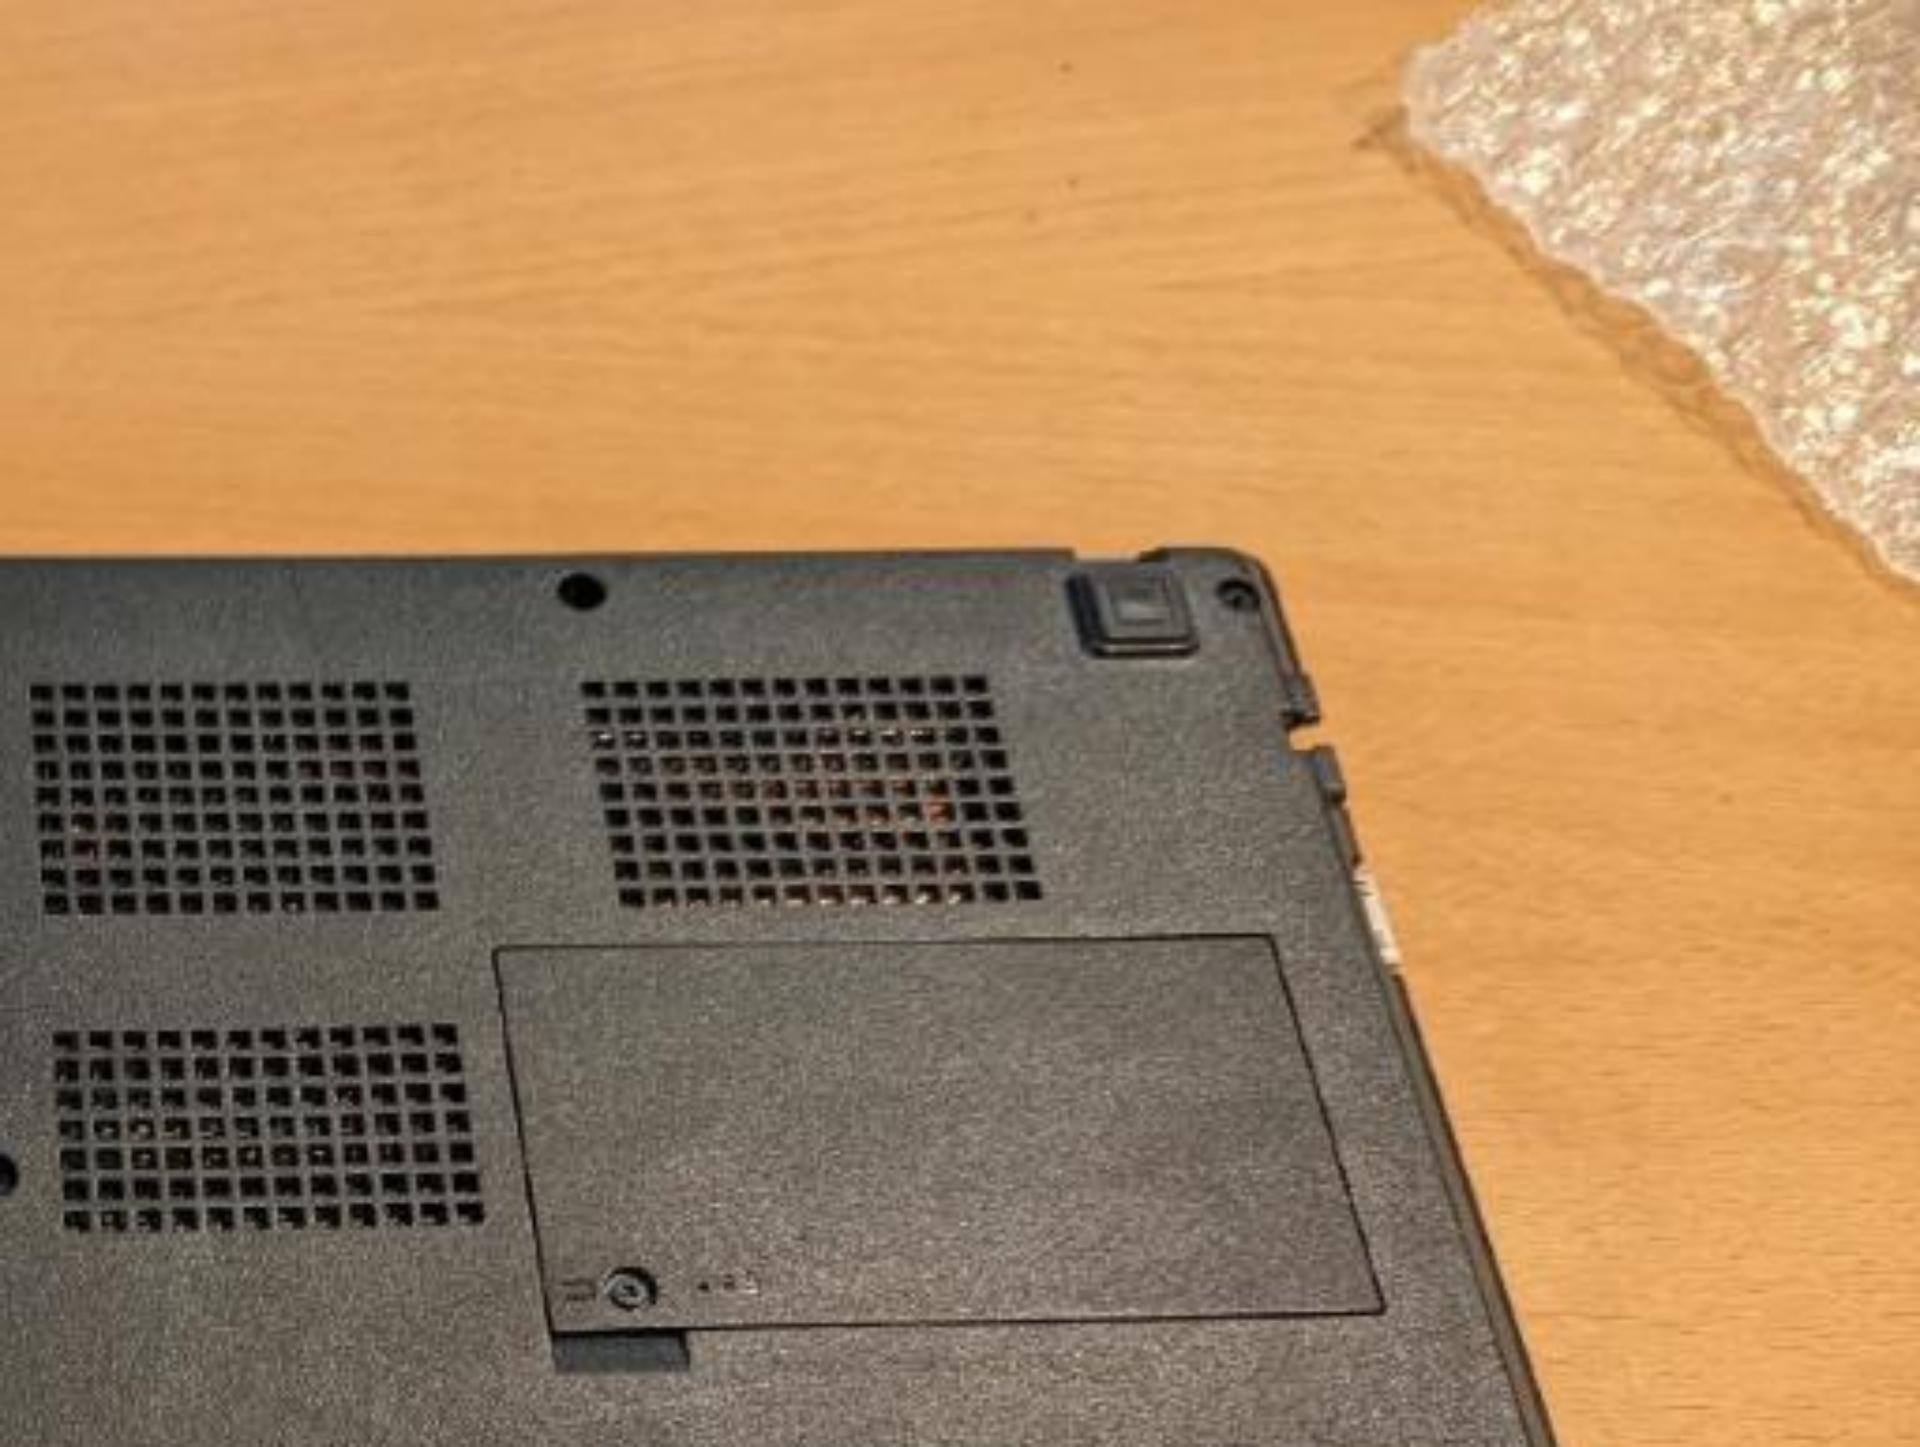scratches: (287, 556, 333, 686)
